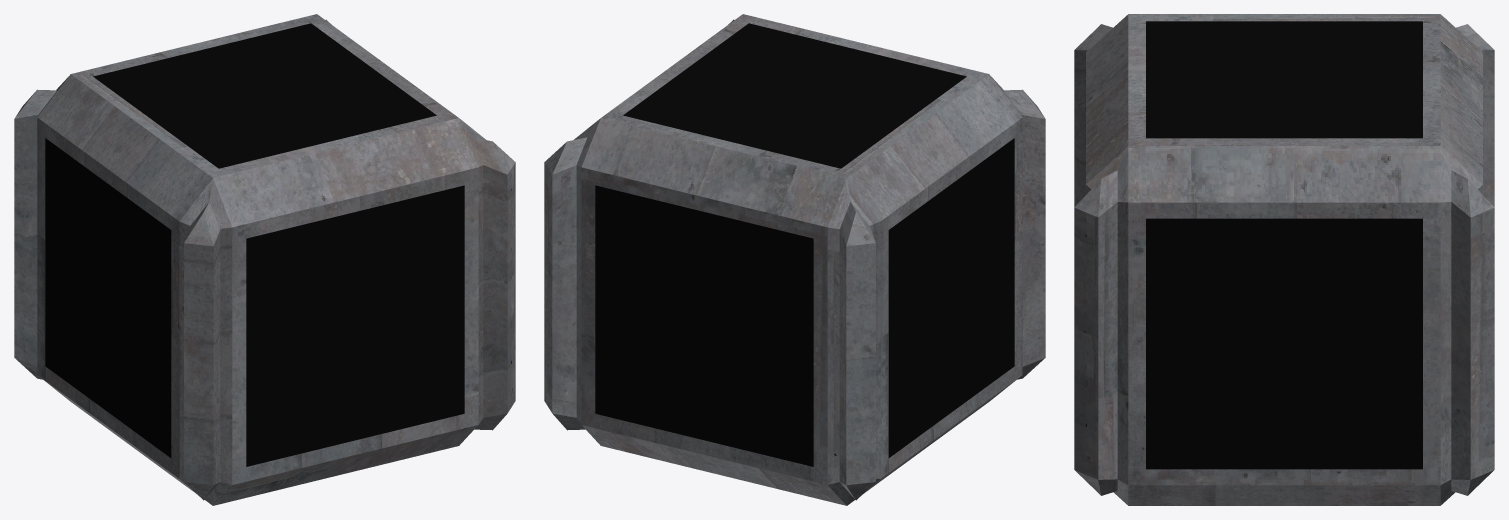
File: item_module_laser_2.glb
3 views of the same model, side by side, from view 1: azimuth 30°, elevation 25°; view 2: azimuth 150°, elevation 25°; view 3: azimuth 270°, elevation 25° (orthographic). The views are drawn at different scales.
Visible parts, largest first — view 1: Module_Box_2_submesh_0, Module_Box_2_submesh_1; view 2: Module_Box_2_submesh_0, Module_Box_2_submesh_1; view 3: Module_Box_2_submesh_0, Module_Box_2_submesh_1.
Boxes of the visible parts, x1,y1,x2,y2 form: Module_Box_2_submesh_0: (45, 23, 464, 466); Module_Box_2_submesh_1: (14, 14, 515, 505); Module_Box_2_submesh_0: (595, 23, 1014, 466); Module_Box_2_submesh_1: (544, 14, 1045, 505); Module_Box_2_submesh_0: (1146, 21, 1422, 469); Module_Box_2_submesh_1: (1074, 14, 1494, 505).
Size of the model in its own units: 0.2645 by 0.25 by 0.2645.
2 materials, 1 textured.
